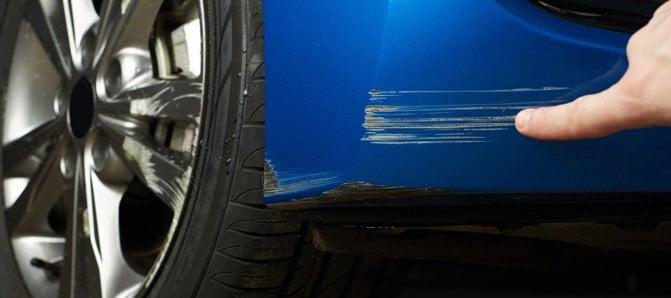scratch: (361, 78, 583, 152), (262, 146, 452, 208)
